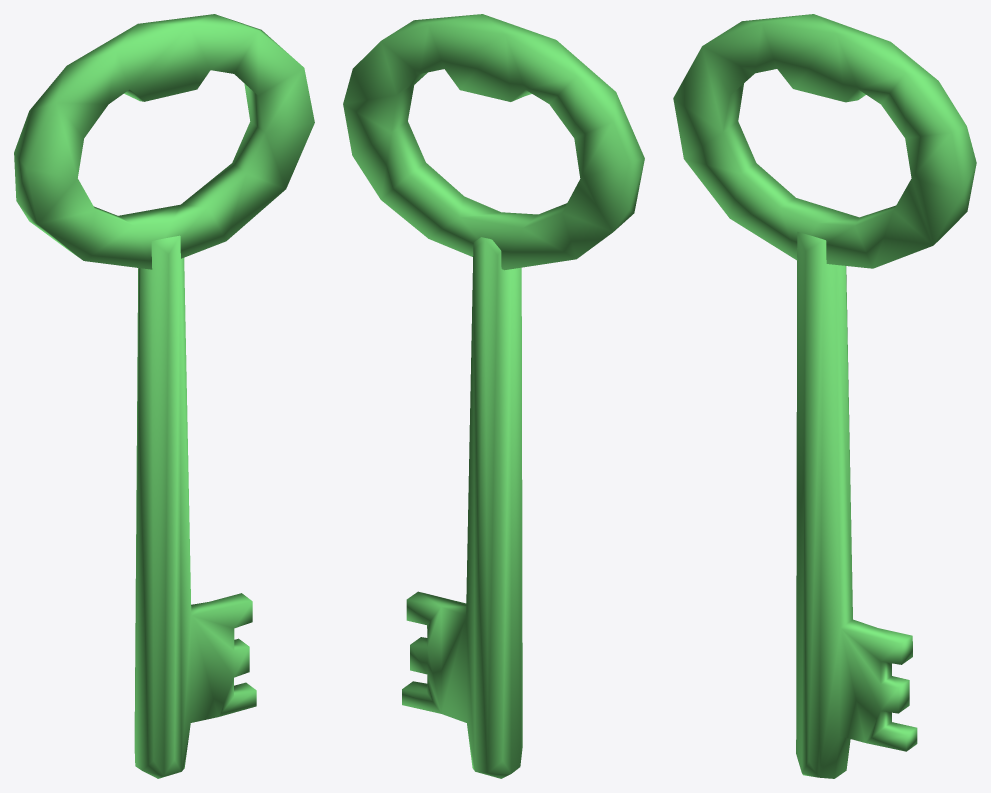
Rendered from key_model.fbx.
3 renders of one model, left to right at view 1: azimuth 30°, elevation 25°; view 2: azimuth 150°, elevation 25°; view 3: azimuth 330°, elevation 25°, orthographic.
Parts seen in each view (by area): view 1: Key; view 2: Key; view 3: Key.
Boxes of the visible parts, x1,y1,x2,y2 form: Key: (14, 14, 314, 778); Key: (343, 14, 644, 778); Key: (673, 14, 976, 778).
Size of the model in its own units: 12.47 by 30.82 by 1.98.
